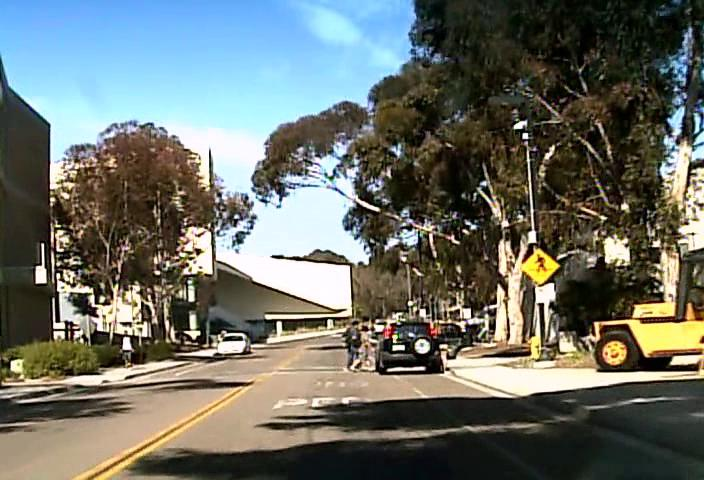pedestrianCrossing: (520, 247, 560, 285)
